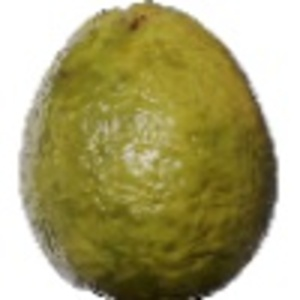goiaba: (10, 3, 282, 298)
